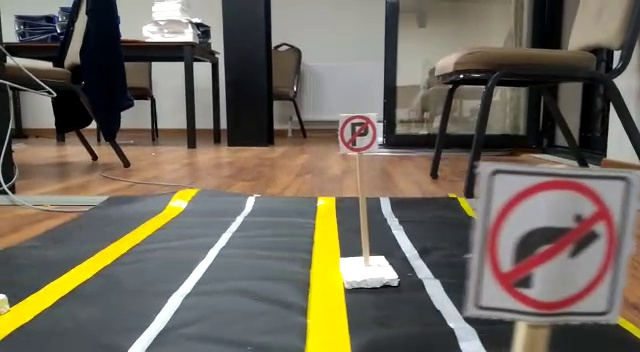park_yapilmaz: (337, 114, 379, 156)
saga_donulmez: (490, 169, 618, 312)
